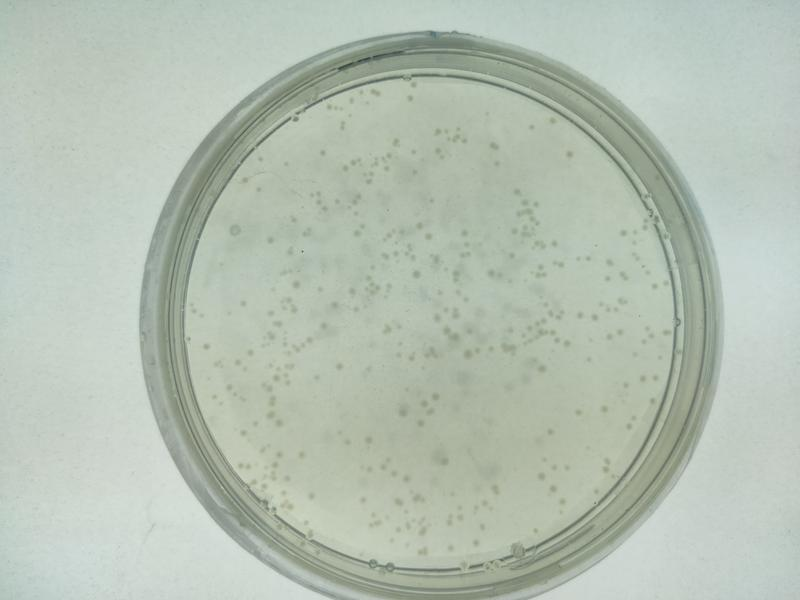colony: (435, 452, 455, 469), (234, 296, 256, 311), (358, 432, 380, 446), (489, 155, 508, 171), (318, 315, 332, 335), (313, 145, 333, 159), (328, 361, 349, 374), (313, 280, 329, 297), (602, 254, 618, 270), (272, 414, 287, 431), (407, 164, 422, 180), (391, 403, 408, 417), (429, 388, 444, 403), (401, 471, 416, 486), (468, 534, 483, 549), (560, 147, 576, 161), (560, 335, 574, 351), (533, 467, 549, 481), (356, 493, 371, 507), (422, 196, 438, 209), (288, 277, 304, 290), (616, 224, 629, 240), (573, 307, 586, 323), (305, 490, 319, 504), (421, 232, 436, 245), (413, 416, 428, 429), (262, 233, 276, 246), (294, 448, 308, 461), (404, 93, 416, 105)
